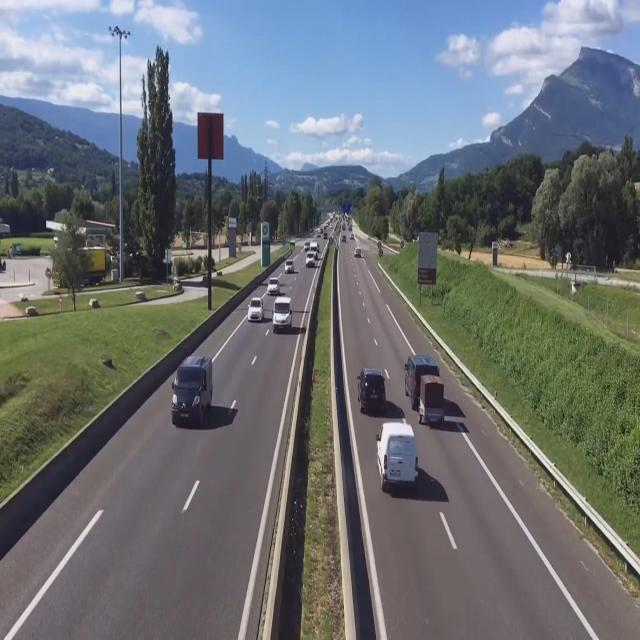car: (375, 417, 419, 495), (172, 354, 215, 426), (404, 355, 442, 414), (357, 366, 388, 416), (273, 298, 293, 336), (248, 296, 266, 324), (268, 276, 282, 296)
